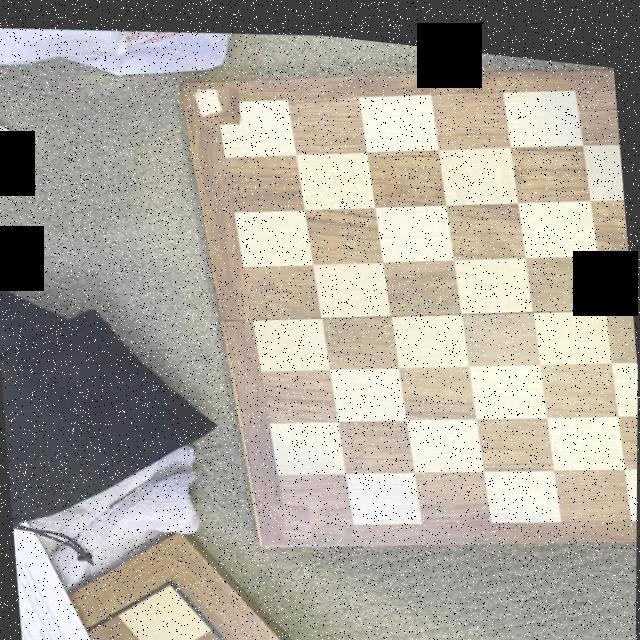chess-table-corners: (196, 78, 241, 124), (269, 494, 313, 535)
